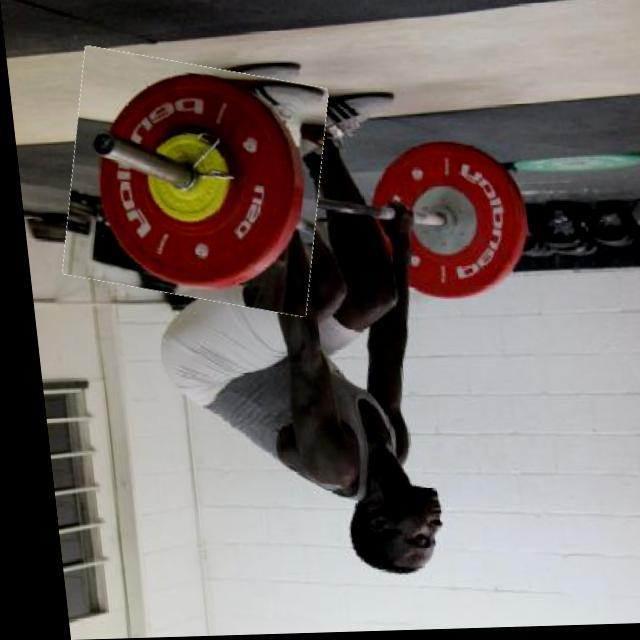barbell: (49, 53, 335, 313)
